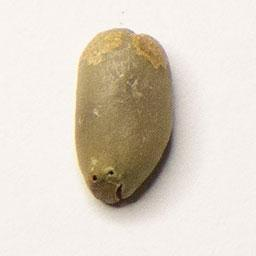longberry: (73, 25, 177, 208)
